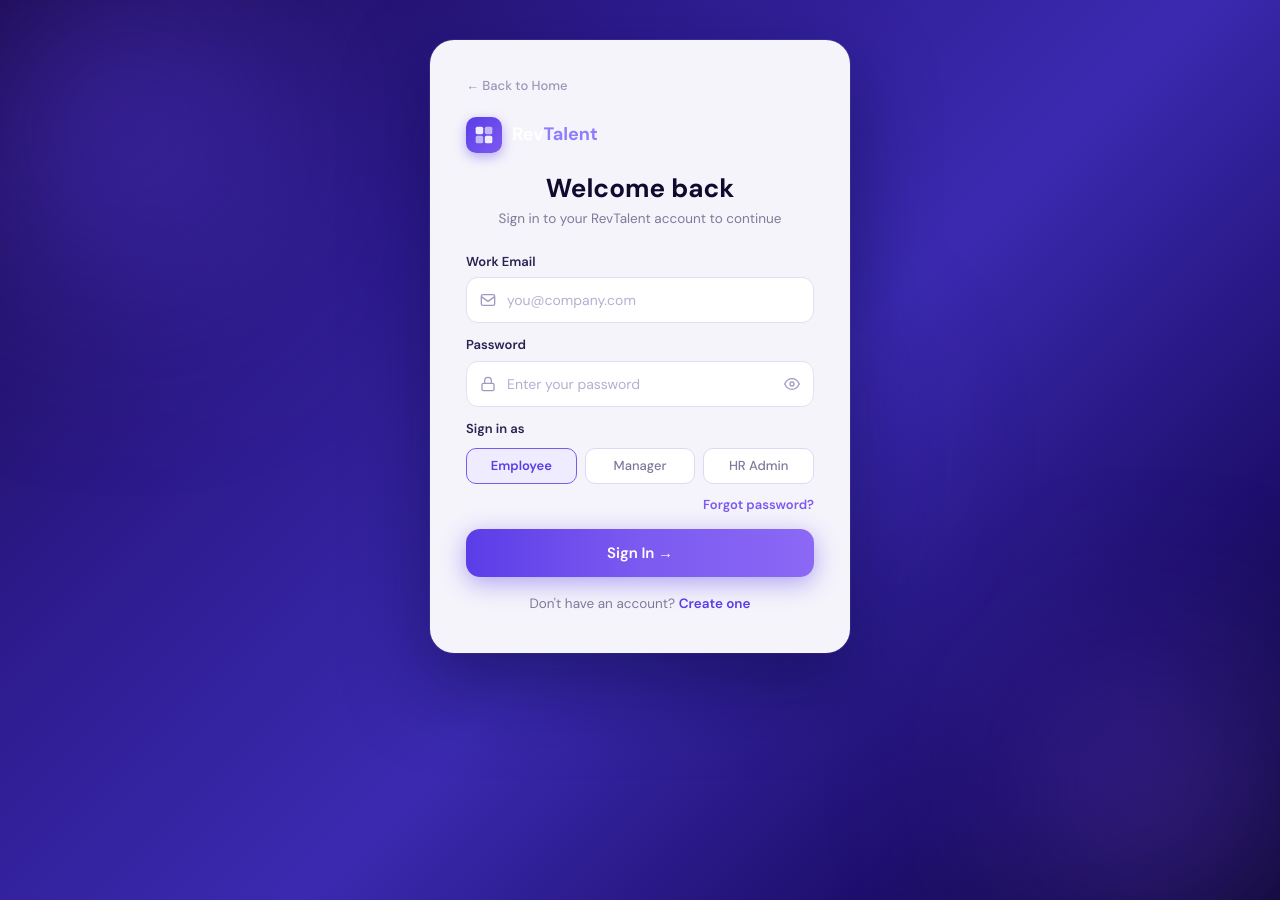
Test case: Validation - Error Messages on Invalid Input › shows error when email is empty but password is filled
Step 1. Type "pass123" into the password field with placeholder "Enter your password" → (640, 384), box [466,361,814,407]
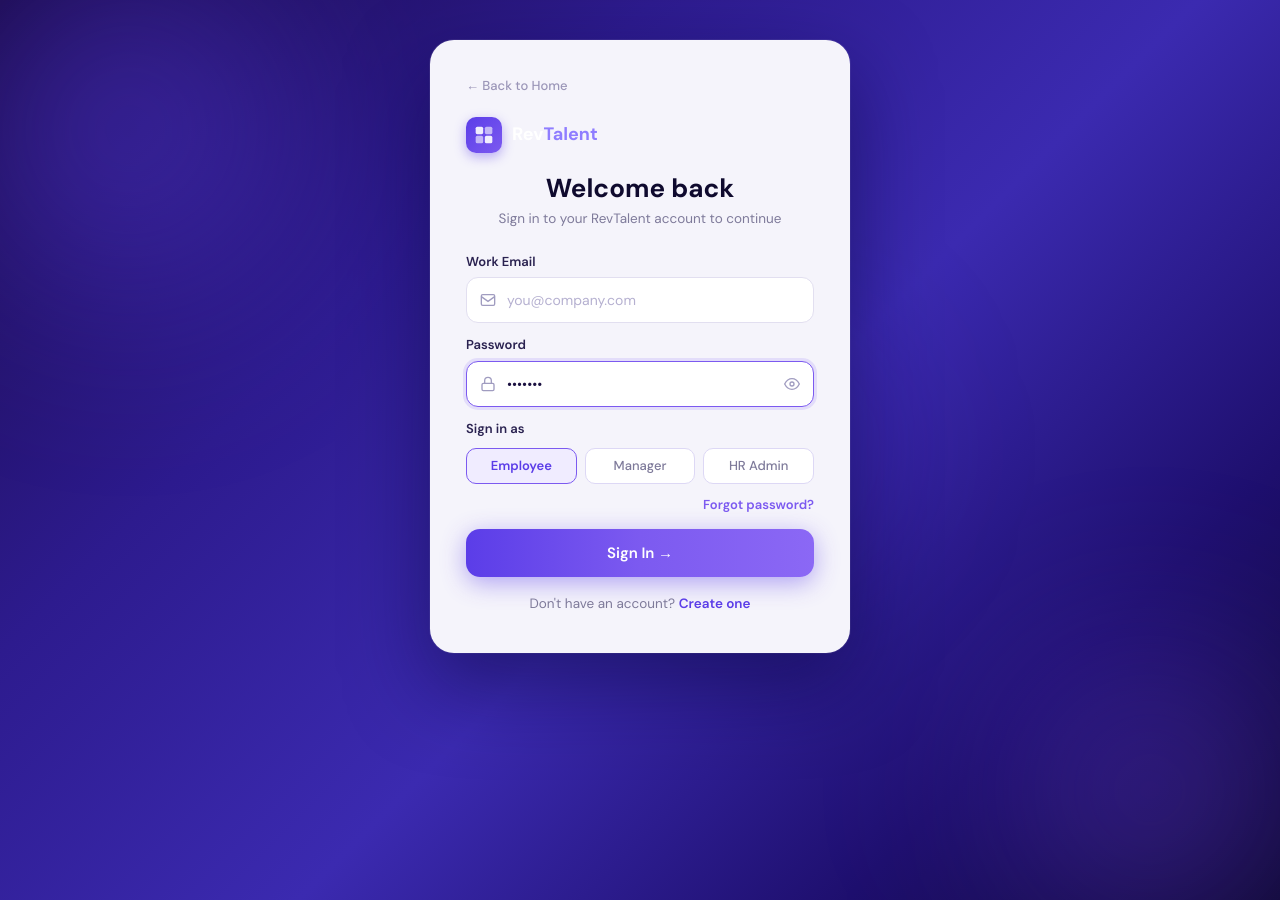
Step 2. Click the button "Sign In →" → (640, 553), box [466,529,814,577]
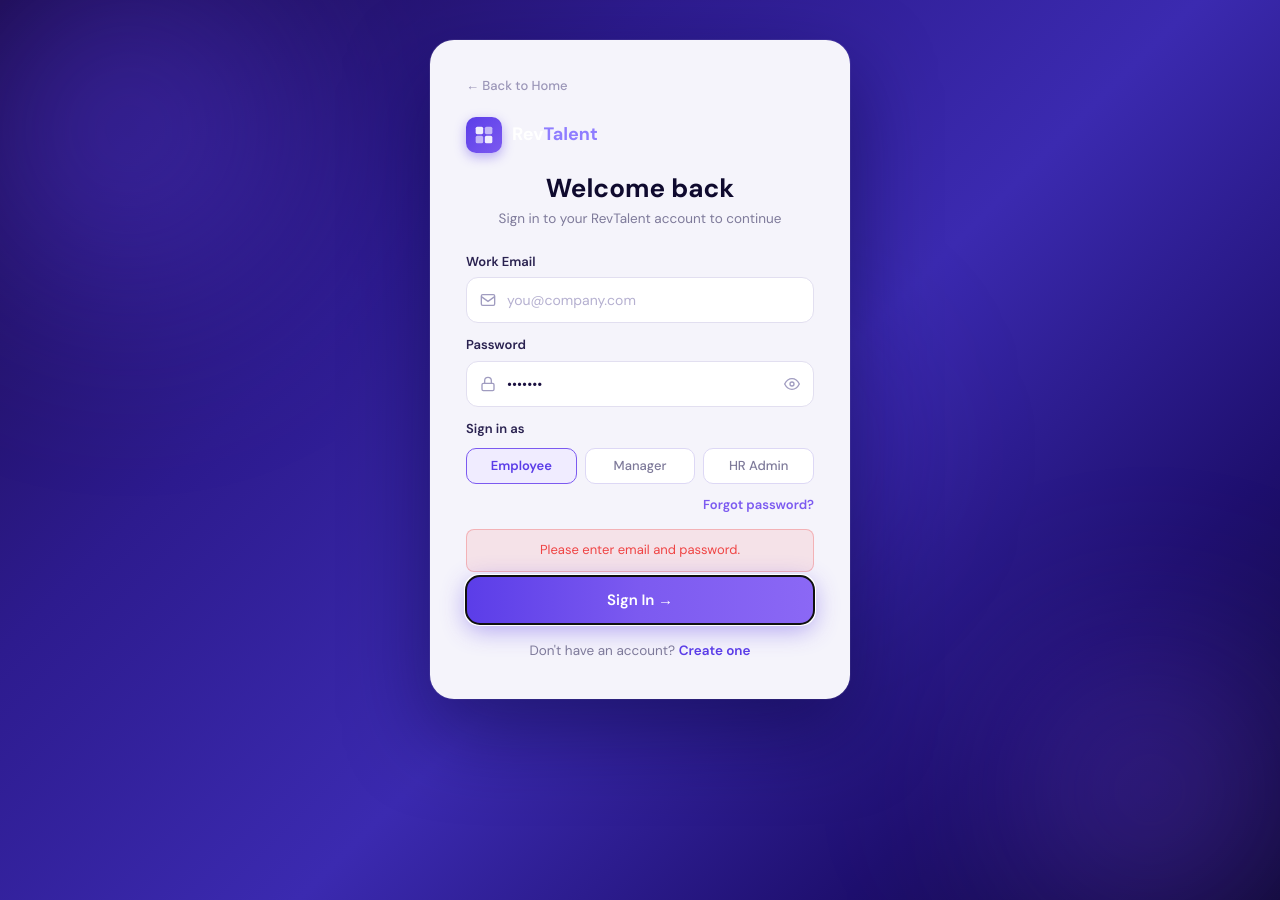
Now the text "Please enter email and password." is shown, box [466,529,814,572]
